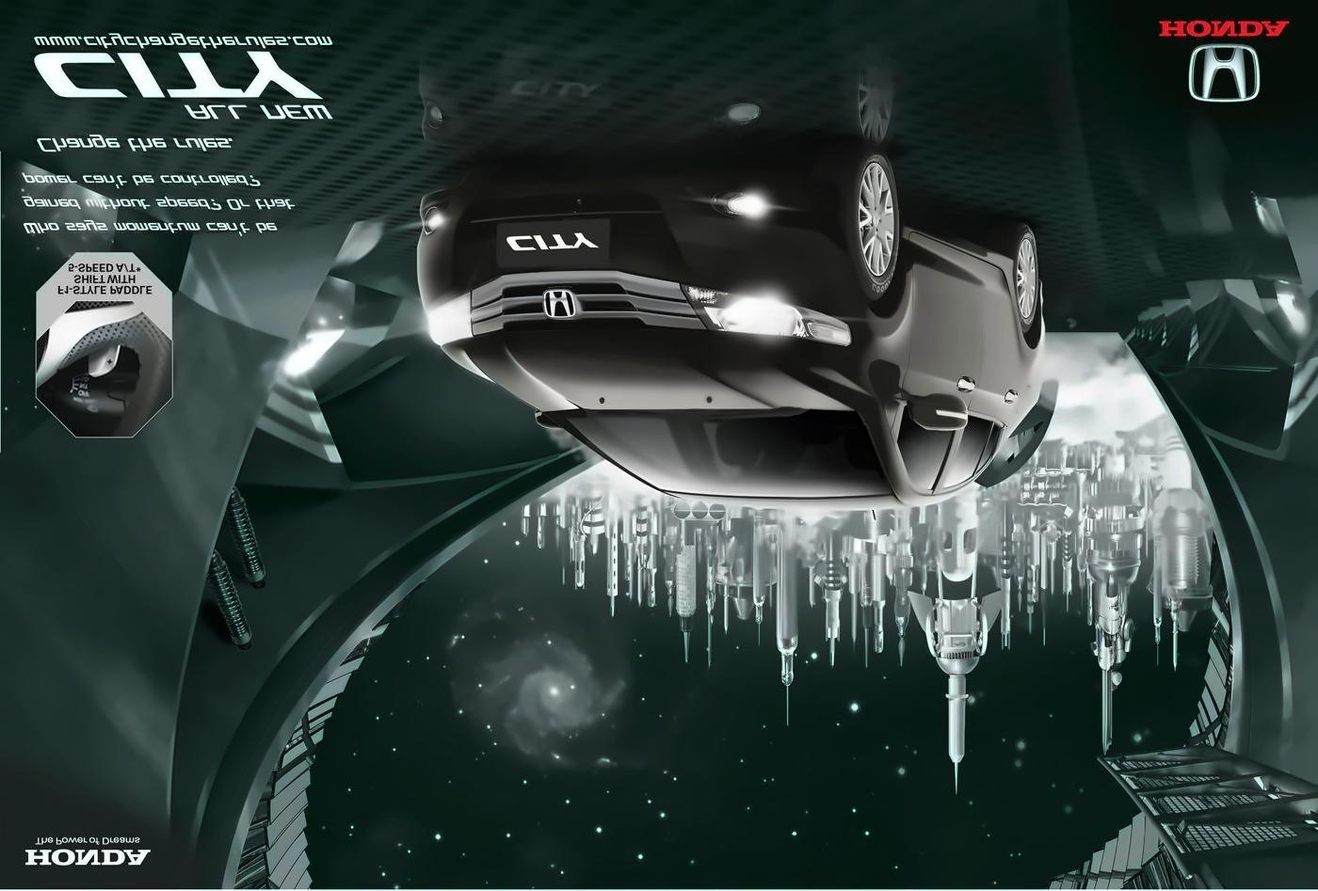Car hood: (437, 319, 858, 416)
Driver-s door - -F-R-: (903, 231, 983, 496)
Fender - -F-R-: (848, 231, 910, 437)
Front bumper: (406, 178, 869, 314)
Headlight - -L-: (422, 282, 483, 347)
Headlight - -R-: (674, 274, 854, 346)
Passenger-s door - -R-R-: (944, 236, 1030, 495)
Side bumper - -R-: (896, 217, 1016, 276)
Side mirror - -R-: (902, 385, 971, 439)
